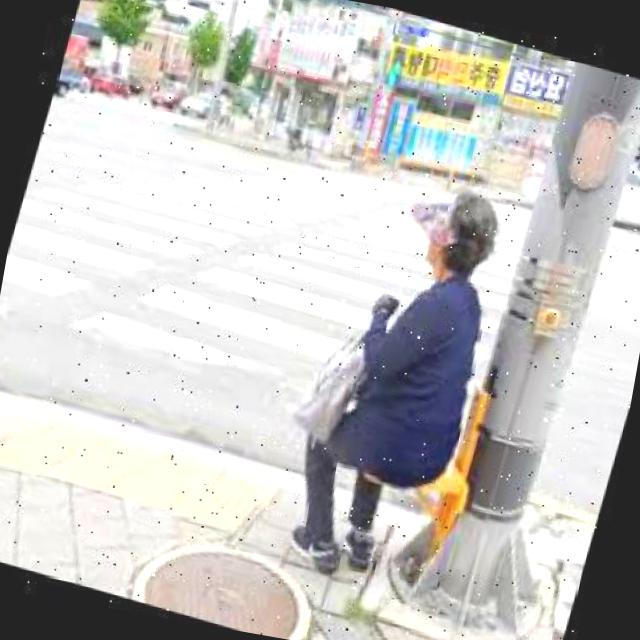Person: (271, 159, 542, 606)
